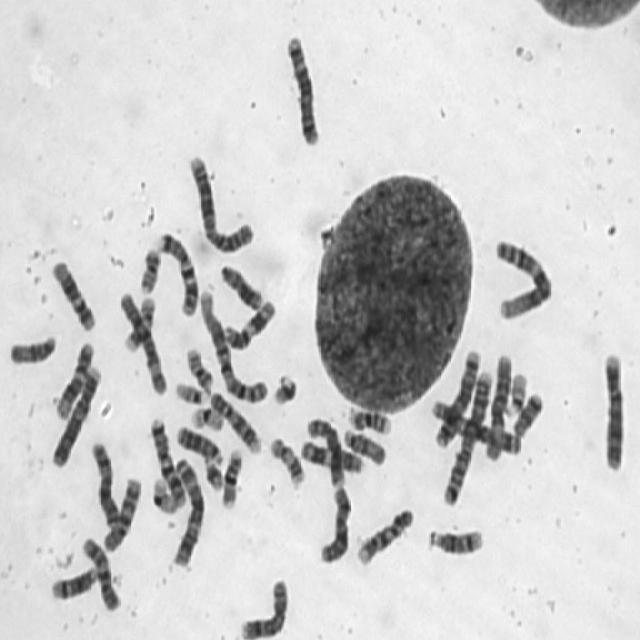A1: (198, 284, 268, 404), (490, 235, 554, 322)
A2: (187, 151, 256, 255), (442, 370, 492, 509)
A3: (428, 396, 522, 456), (170, 454, 205, 566)
B4: (49, 362, 102, 468), (599, 348, 626, 473)
B5: (432, 344, 484, 450), (283, 30, 322, 149)
C10: (79, 532, 121, 613), (101, 474, 143, 553)
C11: (220, 295, 278, 352), (298, 436, 364, 476)
C12: (52, 337, 96, 421), (49, 257, 97, 333)
C6: (117, 288, 168, 397), (484, 354, 512, 463)
C7: (155, 228, 199, 318), (147, 414, 186, 509)
C8: (238, 576, 289, 639), (304, 414, 346, 488)
C9: (354, 505, 415, 567), (207, 388, 263, 454)
D13: (216, 260, 264, 312), (174, 421, 223, 465)
D14: (424, 524, 484, 557), (47, 563, 99, 600)
D15: (340, 425, 388, 467), (7, 331, 58, 366)
E16: (219, 446, 243, 510), (345, 404, 393, 436)
E17: (121, 293, 157, 353), (268, 434, 305, 488)
E18: (510, 388, 544, 438)
F19: (187, 403, 225, 433), (150, 474, 178, 514)
F20: (183, 344, 214, 392), (136, 244, 162, 296)
G21: (271, 370, 299, 406), (200, 452, 224, 492)
G22: (503, 368, 529, 418), (172, 378, 208, 406)
X: (316, 482, 353, 564), (88, 437, 120, 530)
